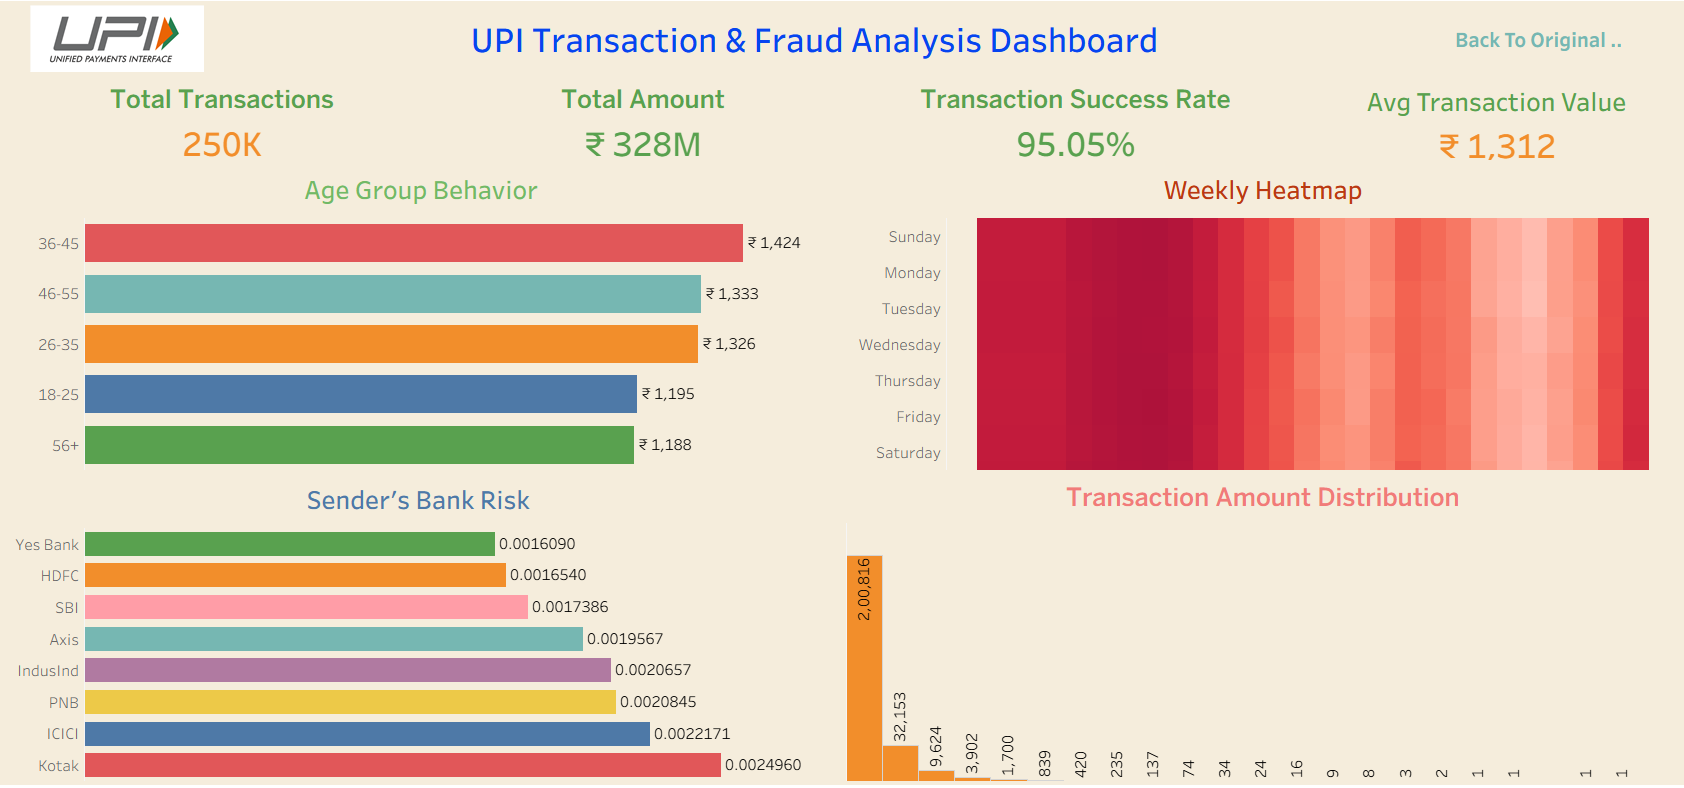

What the dashboard file says about the page in this screenshot:
{"tool":"tableau","page":{"name":"Dashboard 2","canvas":[1700,800],"ordinal":1},"visuals":[{"type":"image","param":"C:/Users/gptvi/Pictures/Screenshots/Screenshot 2026-04-21 180854.png","box":[8,8,235,75]},{"type":"text","box":[243,8,1159,75]},{"type":"dashboard-object","box":[1402,8,290,75]},{"type":"worksheet","title":"KPI 1","mark":"Automatic","box":[8,83,444,88]},{"type":"worksheet","title":"KPI 2","mark":"Automatic","box":[452,83,398,88]},{"type":"worksheet","title":"KPI 4","mark":"Automatic","box":[850,83,467,88]},{"type":"worksheet","title":"KPI 5","mark":"Automatic","box":[1317,83,375,88]},{"type":"worksheet","title":"Age Group Behavior","mark":"Automatic","rows":["sender_age_group"],"cols":["amount_(inr)"],"box":[8,171,842,310]},{"type":"worksheet","title":"Heatmap","mark":"Square","rows":["day_of_week"],"cols":["hour_of_day"],"box":[850,171,842,310.5]},{"type":"worksheet","title":"Bank Risk","mark":"Automatic","rows":["sender_bank"],"cols":["Calculation_1040894524898795520"],"box":[8,481,842,311]},{"type":"worksheet","title":"Amount Distribution","mark":"Bar","rows":["transaction_id"],"cols":["Amount (Inr) (bin)"],"box":[850,481.5,842,310.5]}]}

Visuals, with their boxes in screenshot pixels (x1, y1, x2, y2), scaled from the page's 1700x800 canvas onto the 1684x788 screenshot:
image: 8 8 241 82
text: 241 8 1389 82
dashboard-object: 1389 8 1676 82
"KPI 1" worksheet: 8 82 448 168
"KPI 2" worksheet: 448 82 842 168
"KPI 4" worksheet: 842 82 1305 168
"KPI 5" worksheet: 1305 82 1676 168
"Age Group Behavior" worksheet: 8 168 842 474
"Heatmap" worksheet (Square marks): 842 168 1676 474
"Bank Risk" worksheet: 8 474 842 780
"Amount Distribution" worksheet (Bar marks): 842 474 1676 780
